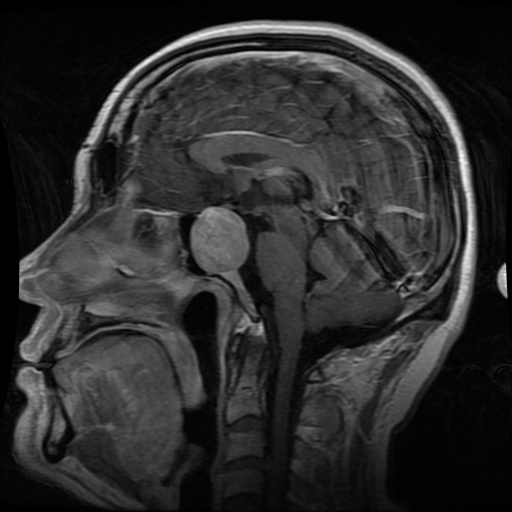pituitary: (192, 208, 249, 273)
